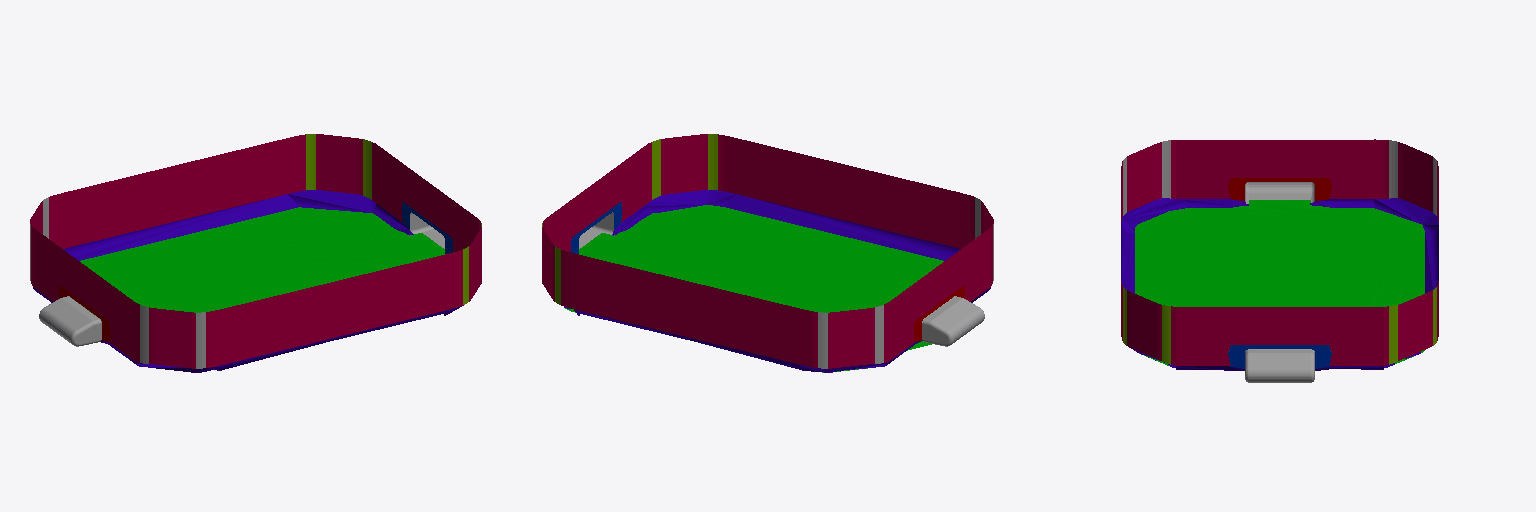
Rendered from Field2.obj.
The picture shows the model from 3 angles: view 1: azimuth 30°, elevation 25°; view 2: azimuth 150°, elevation 25°; view 3: azimuth 270°, elevation 25°; orthographic projection.
Visible parts, largest first — view 1: pitch; view 2: pitch; view 3: pitch.
Boxes of the visible parts, x1,y1,x2,y2 form: pitch: [30, 134, 481, 372]; pitch: [542, 134, 993, 372]; pitch: [1121, 139, 1438, 382].
Bounding box in the file's own units: 12.42 × 1.94 × 8.5.